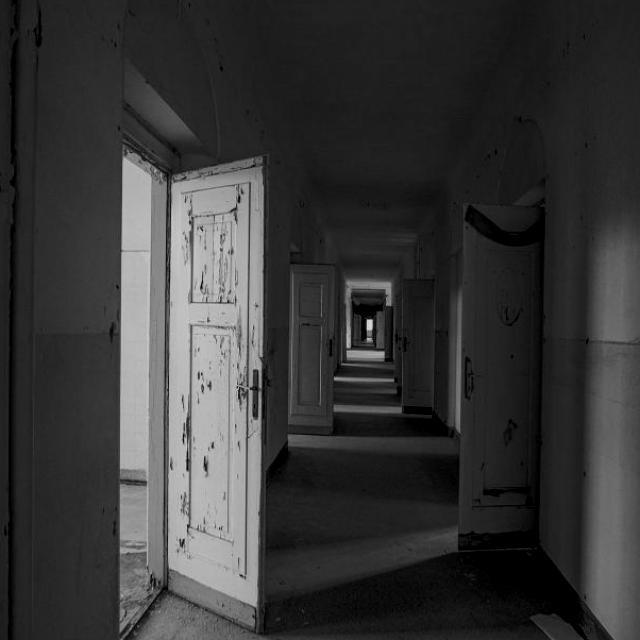door: (166, 155, 266, 615), (458, 191, 540, 547), (276, 254, 336, 436), (389, 266, 442, 422)
